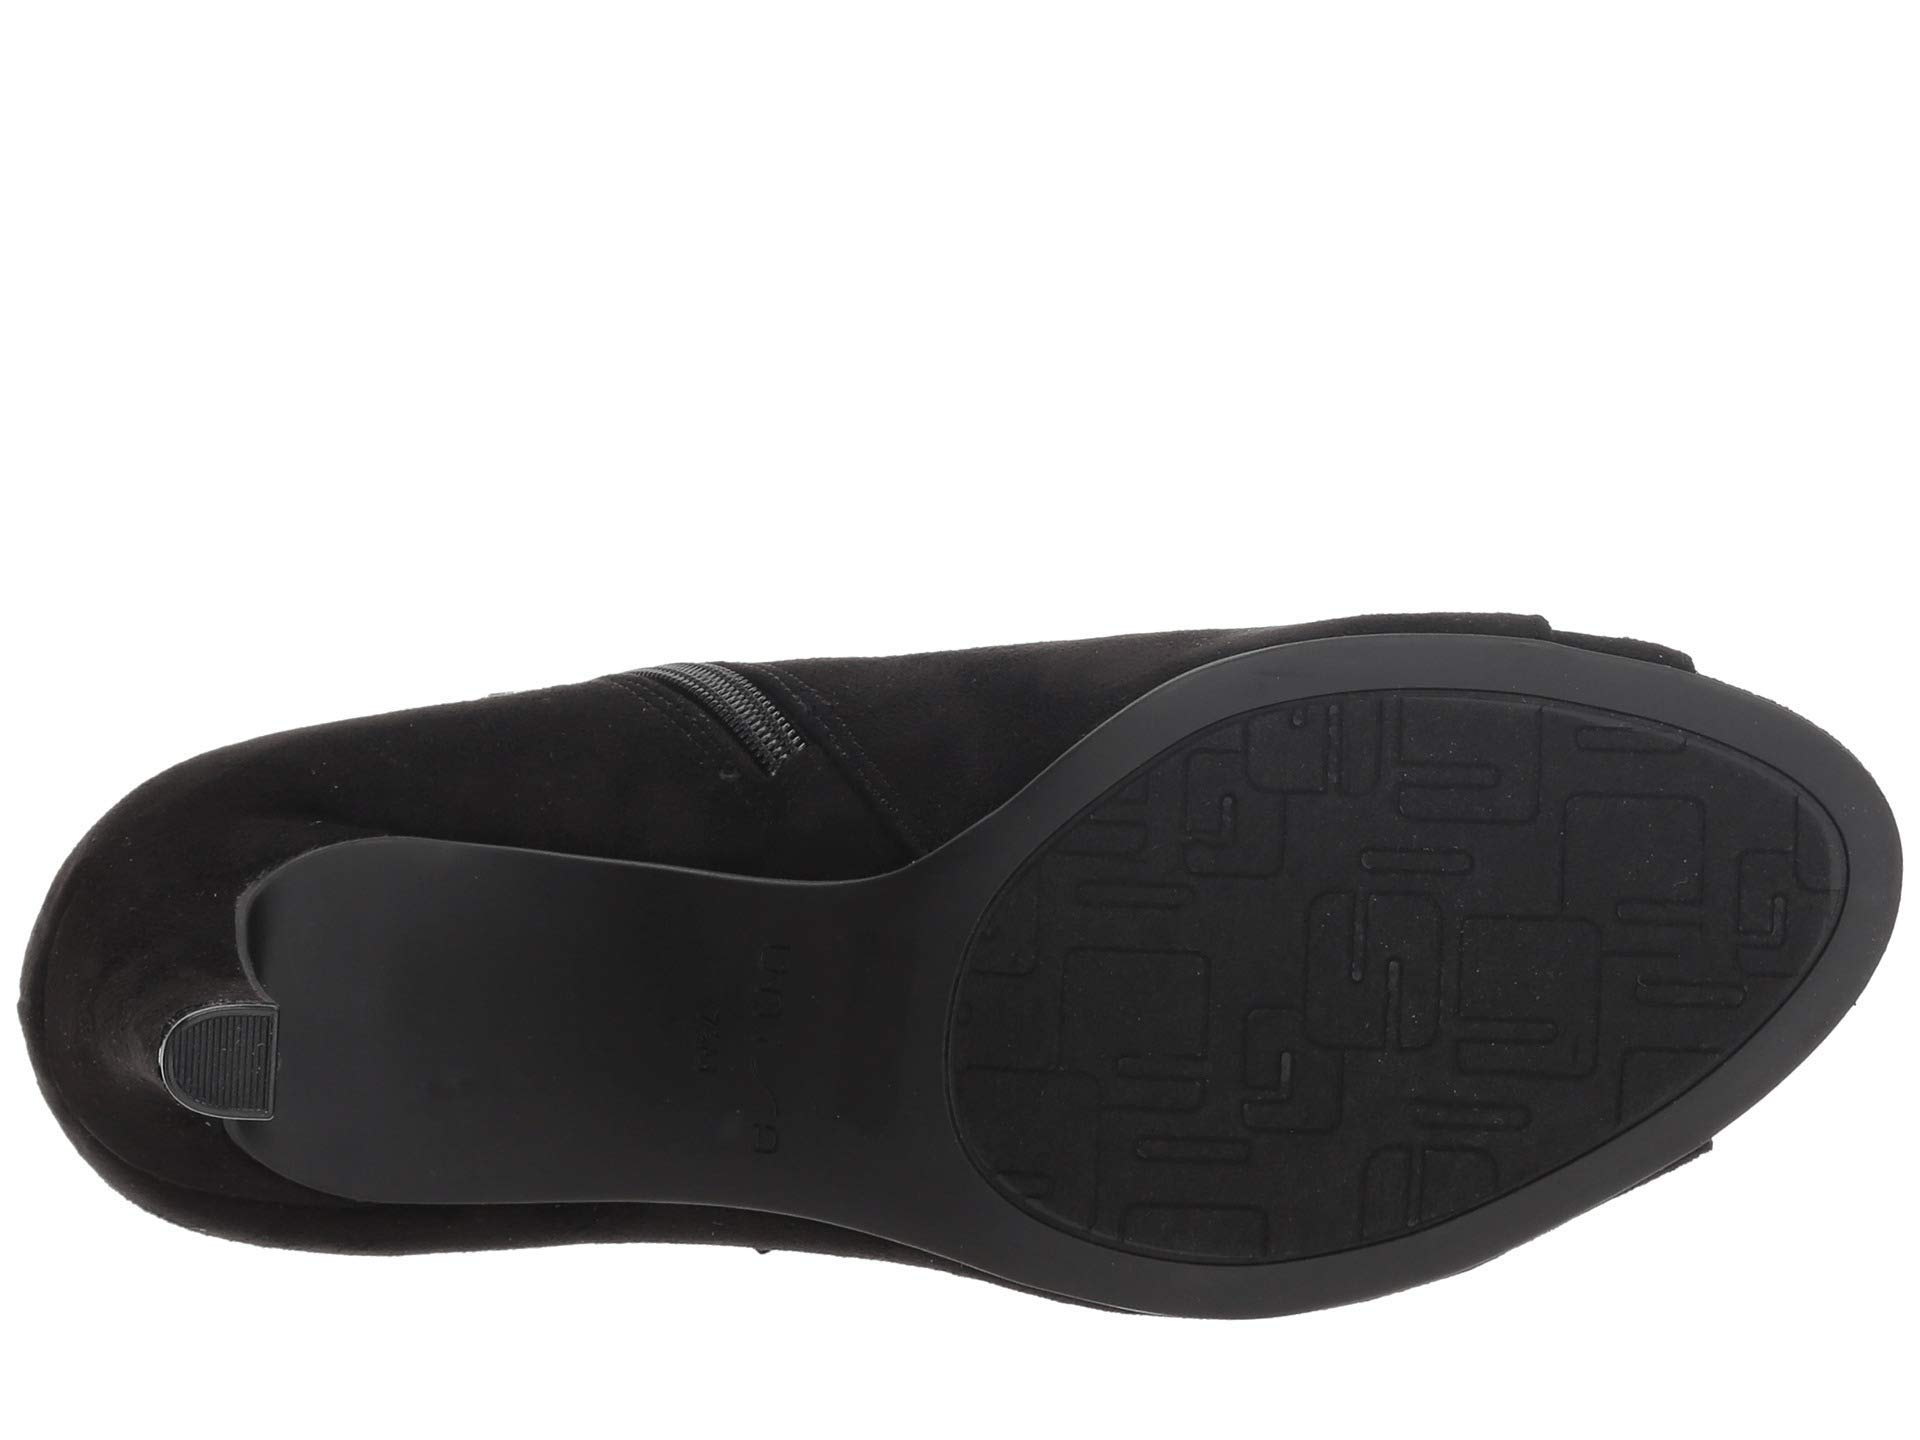quad: (1281, 796, 1628, 1106)
